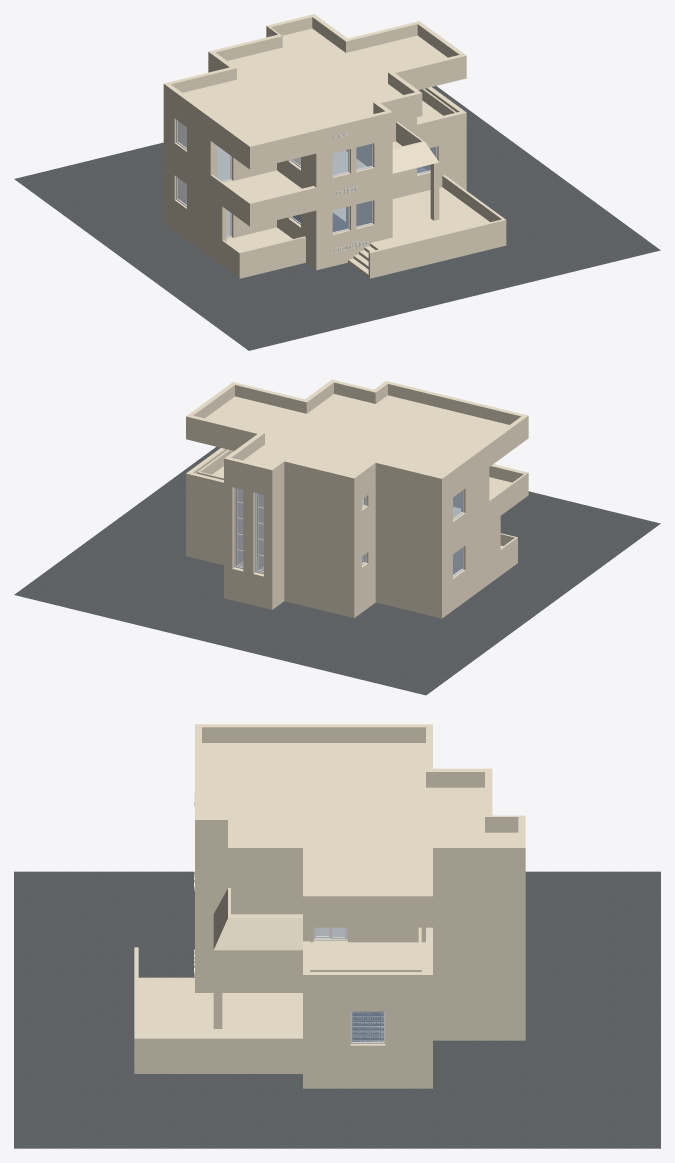
3 renders of one model, top to bottom at view 1: azimuth 30°, elevation 25°; view 2: azimuth 150°, elevation 25°; view 3: azimuth 270°, elevation 25°, orthographic. The views are drawn at different scales.
Visible parts, largest first — view 1: Root Node, 18472, 16624, 17853, 20528; view 2: Root Node, 18472, 16624, 17853, Component#7 (×2); view 3: Root Node, 18472, 16624, 17853, Component#4, 20528.
Part boxes in pixels (<box>): Root Node: <box>14,86,660,350</box>; 18472: <box>163,14,466,169</box>; 16624: <box>163,124,506,278</box>; 17853: <box>163,28,466,226</box>; 20528: <box>430,162,439,220</box>; Root Node: <box>14,446,660,695</box>; 18472: <box>186,379,528,490</box>; 16624: <box>186,485,517,618</box>; 17853: <box>186,403,528,547</box>; Component#7 (×2): <box>234,488,263,574</box>; Root Node: <box>14,871,660,1148</box>; 18472: <box>195,724,525,927</box>; 16624: <box>134,914,525,1088</box>; 17853: <box>195,743,525,990</box>; Component#4: <box>350,1011,385,1043</box>; 20528: <box>213,950,222,1028</box>.
Size of the model in its own units: 22.69 by 7.35 by 22.4.
1386 materials, 1 textured.
